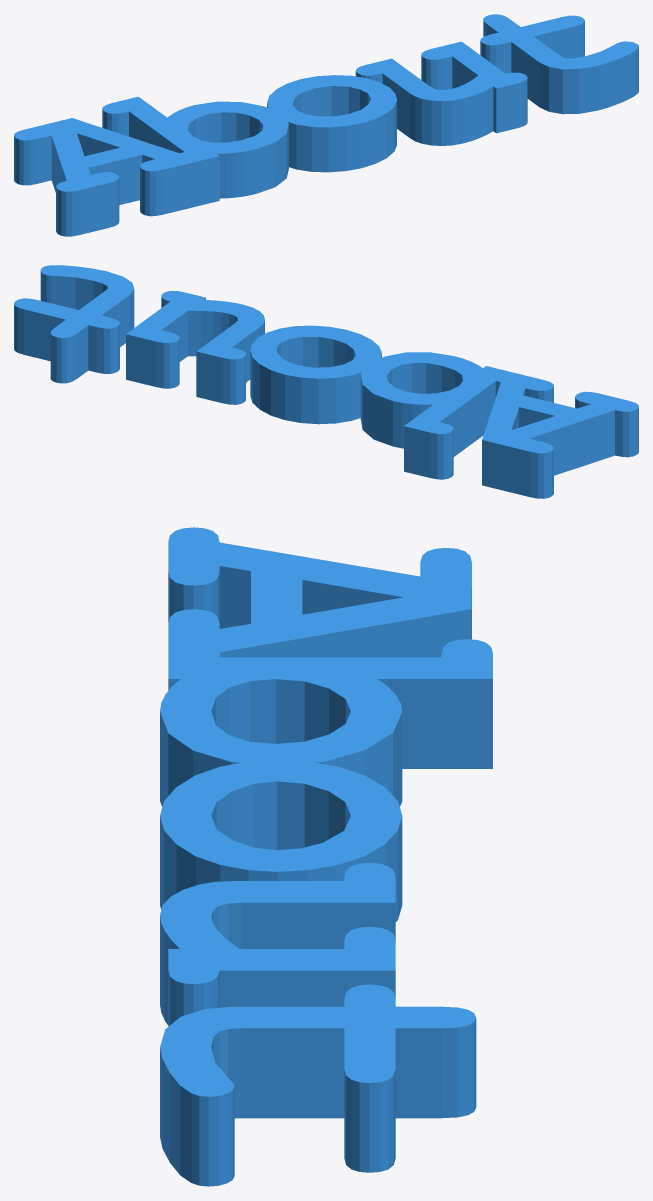
Rendered from About.glb.
3 renders of one model, top to bottom at view 1: azimuth 30°, elevation 25°; view 2: azimuth 150°, elevation 25°; view 3: azimuth 270°, elevation 25°, orthographic. The views are drawn at different scales.
Visible parts, largest first — view 1: About; view 2: About; view 3: About.
Part boxes in pixels (x1=…): About: x1=14, y1=14, x2=638, y2=236; About: x1=14, y1=265, x2=638, y2=498; About: x1=160, y1=527, x2=492, y2=1186.
Bounding box in the file's own units: 1.36 × 0.1 × 0.3362.
